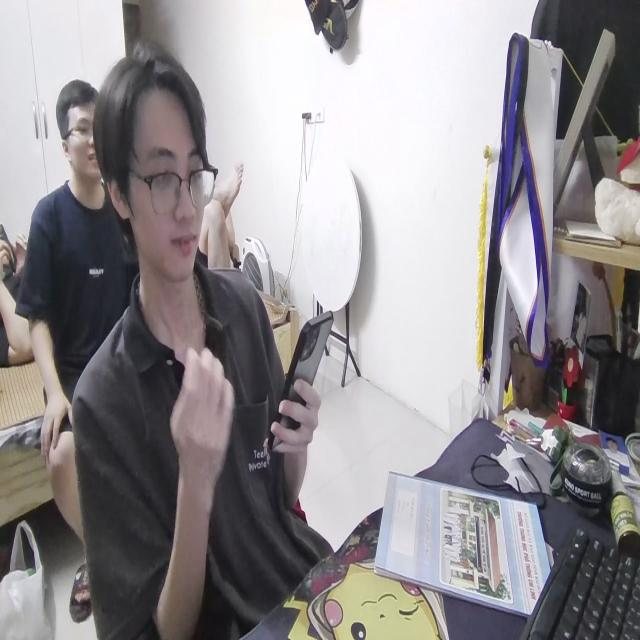book: (373, 465, 554, 615)
extra_person: (24, 82, 129, 520)
student: (74, 42, 334, 640)
